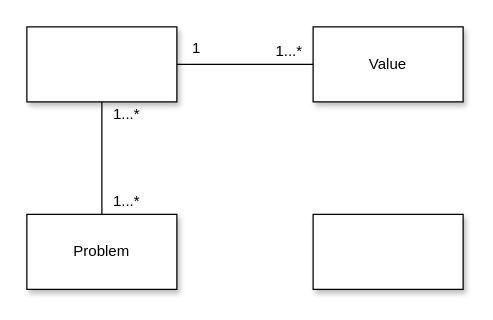
This 493x320 diagram has some shape labels left out. The centre of each missing label's shape, as x and y in pixels:
Equation: the point at 102,66
specific user: the point at 389,253
